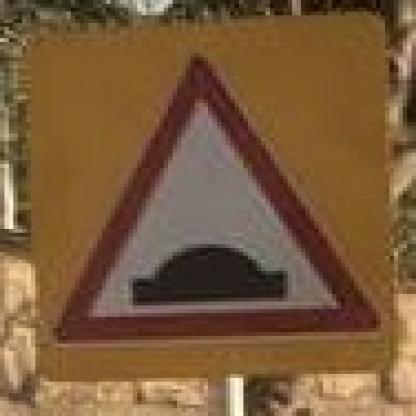Speed Breaker Ahead: (19, 6, 405, 382)
